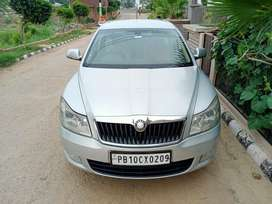PB10CX0209: (111, 152, 170, 165)
